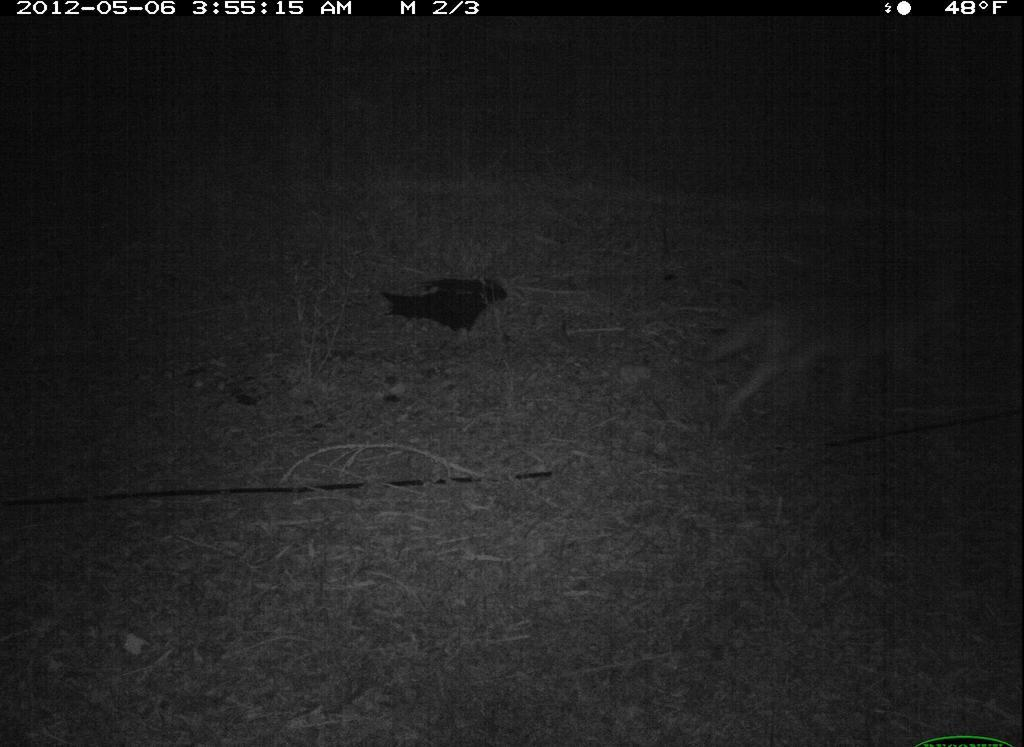coyote: (702, 264, 967, 468)
